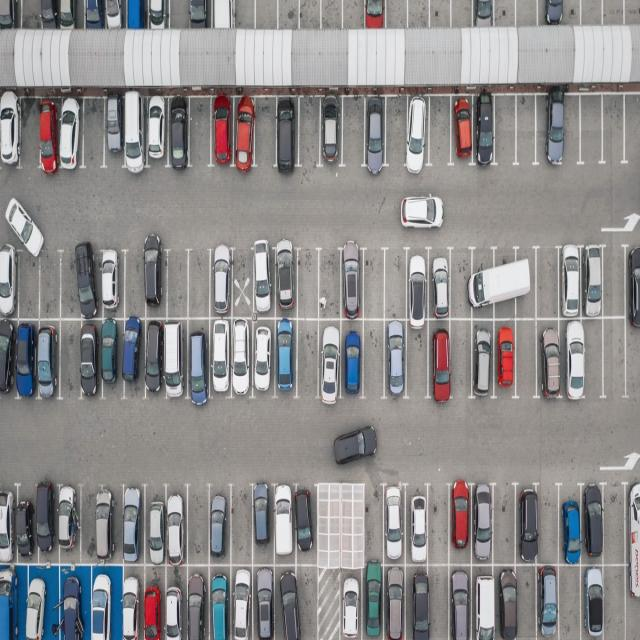space-empty: (230, 487, 256, 567), (447, 319, 473, 398), (58, 319, 84, 398), (602, 318, 628, 396), (292, 320, 318, 398), (423, 563, 450, 638), (292, 563, 319, 638), (404, 321, 430, 398), (516, 318, 542, 395), (557, 562, 583, 638), (492, 486, 517, 565), (426, 484, 450, 566), (361, 318, 386, 396), (184, 488, 209, 566), (361, 486, 384, 568), (538, 488, 562, 566), (601, 246, 626, 320), (534, 249, 560, 320), (188, 97, 214, 168), (426, 97, 452, 167), (492, 94, 517, 166), (604, 563, 628, 638), (255, 94, 279, 167), (228, 247, 252, 320), (296, 250, 321, 320), (603, 95, 628, 165), (449, 249, 474, 319), (20, 98, 43, 174), (602, 486, 624, 565), (582, 318, 604, 397), (515, 566, 539, 638), (384, 97, 408, 168), (83, 99, 107, 170), (166, 250, 191, 318), (316, 250, 341, 318), (383, 251, 407, 321), (580, 94, 604, 164), (342, 96, 366, 166), (360, 251, 385, 318), (80, 488, 102, 564), (515, 94, 538, 165), (38, 247, 61, 318), (186, 250, 210, 318), (298, 98, 322, 166), (124, 251, 148, 318), (17, 249, 40, 318), (318, 488, 338, 567), (561, 93, 581, 165), (625, 319, 640, 395), (624, 95, 640, 165), (318, 0, 342, 32), (342, 0, 366, 30), (384, 1, 408, 30), (407, 0, 431, 29), (255, 0, 278, 30), (276, 0, 299, 30), (299, 0, 322, 30), (450, 0, 474, 28), (167, 0, 190, 29), (21, 0, 43, 30), (515, 0, 538, 28), (430, 0, 453, 28), (234, 0, 256, 29), (493, 0, 515, 27), (601, 0, 624, 25), (581, 0, 603, 25), (623, 0, 639, 24)
space-occupied: (16, 564, 56, 640), (84, 562, 121, 638), (56, 567, 92, 640), (560, 317, 592, 399), (64, 247, 99, 321), (470, 563, 500, 638), (204, 563, 234, 638), (158, 566, 188, 640), (160, 489, 188, 567), (225, 563, 254, 638), (539, 94, 569, 166), (186, 319, 213, 399), (537, 320, 564, 399), (119, 563, 147, 639), (446, 482, 472, 563), (405, 482, 431, 563), (32, 319, 59, 397), (138, 564, 166, 639), (380, 484, 406, 564), (121, 484, 147, 564), (251, 319, 278, 396), (122, 318, 148, 397), (206, 319, 232, 398), (161, 319, 187, 398), (11, 319, 37, 398), (272, 318, 298, 396), (56, 485, 83, 560), (471, 482, 496, 562), (182, 564, 209, 638), (274, 562, 300, 638), (428, 321, 453, 400), (227, 319, 252, 398), (404, 97, 431, 170), (492, 317, 517, 395), (448, 564, 474, 639), (141, 486, 166, 564), (253, 563, 279, 638), (31, 482, 56, 560), (558, 246, 585, 318), (491, 246, 518, 318), (471, 319, 496, 396), (94, 487, 119, 564), (340, 316, 364, 396), (100, 316, 124, 396), (99, 250, 127, 318), (384, 319, 408, 398), (208, 248, 235, 318), (536, 563, 561, 638), (380, 563, 405, 638), (208, 486, 232, 564), (143, 96, 169, 168), (472, 246, 498, 318), (318, 316, 341, 397), (123, 96, 148, 170), (272, 246, 298, 317), (340, 569, 366, 640), (254, 244, 279, 317), (272, 485, 296, 561), (578, 562, 602, 638), (209, 96, 234, 168), (560, 489, 584, 564), (59, 98, 84, 170), (450, 96, 476, 165), (405, 564, 429, 638), (493, 567, 517, 640), (359, 567, 383, 640), (232, 98, 257, 168), (319, 97, 344, 167), (292, 490, 315, 566), (38, 97, 61, 173), (251, 486, 273, 565), (144, 319, 166, 397), (580, 488, 602, 566), (579, 246, 603, 317), (168, 98, 192, 169), (512, 247, 536, 318), (82, 320, 104, 397), (364, 98, 388, 168), (274, 98, 298, 168), (406, 251, 431, 318), (516, 488, 538, 564), (104, 96, 127, 167), (340, 249, 364, 317), (429, 250, 453, 318), (14, 487, 36, 561), (473, 98, 496, 168), (0, 564, 21, 640), (144, 250, 168, 316), (0, 94, 20, 170), (0, 245, 19, 317), (0, 490, 17, 566), (625, 482, 640, 563), (0, 318, 15, 396), (625, 562, 640, 638), (540, 0, 580, 25), (627, 245, 640, 319), (145, 0, 170, 29), (210, 0, 234, 30), (56, 0, 80, 30), (125, 0, 148, 31), (187, 0, 211, 29), (364, 0, 388, 29), (103, 0, 126, 30), (84, 0, 106, 30), (473, 0, 497, 27), (0, 0, 21, 30), (40, 0, 58, 30)
